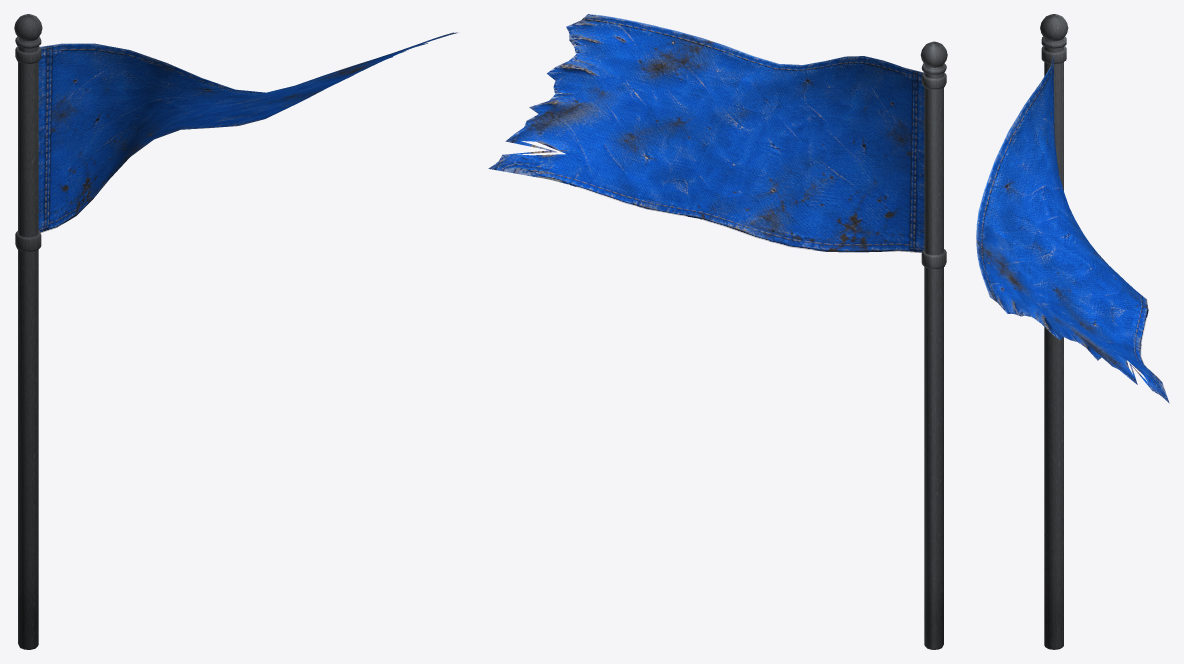
File: BlueFlag.glb
The picture shows the model from 3 angles, left to right: view 1: azimuth 30°, elevation 25°; view 2: azimuth 150°, elevation 25°; view 3: azimuth 270°, elevation 25°; orthographic projection. The views are drawn at different scales.
Parts seen in each view (by area): view 1: BlueFlag; view 2: BlueFlag; view 3: BlueFlag.
Part boxes in pixels (left/top/right/bottom): BlueFlag: left=14, top=14, right=457, bottom=649; BlueFlag: left=488, top=14, right=947, bottom=649; BlueFlag: left=976, top=14, right=1169, bottom=649.
Size of the model in its own units: 0.7035 by 1.01 by 0.2801.
2 materials, 2 textured.
